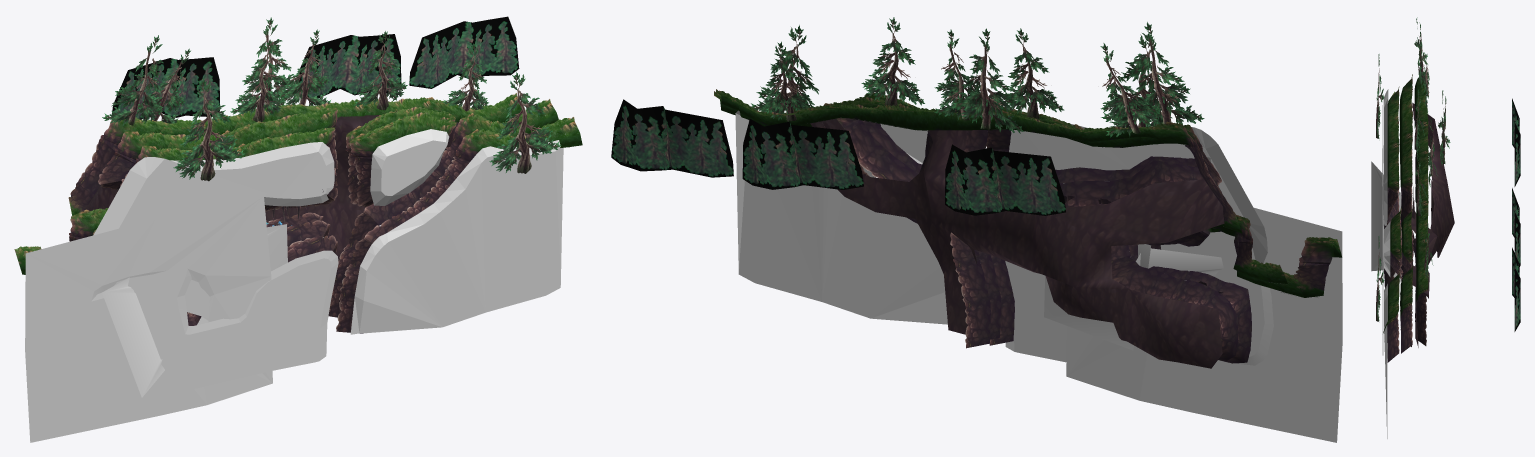
Rendered from Level 6 Deep Lake Pt 2.FBX.
3 renders of one model, left to right at view 1: azimuth 30°, elevation 25°; view 2: azimuth 150°, elevation 25°; view 3: azimuth 270°, elevation 25°, orthographic. The views are drawn at different scales.
Parts seen in each view (by area): view 1: Black Pt 2 Level 6, Black Cave Pt 2 Level 6, Black Cave2 Pt 1 Level 6, Pine Tree Group Pt 2_Level 6, Trees pt 2_Level 6, Black Pt 2 Hidden Cave Level 6, Ground Pt 2 _1 BG, Trees pt 2 FG_Level 6, Ground Pt 2 _3 FG, Ground Pt 2 _3, Ground Pt 2 _1, Dirt BG Pt 2 Level 6 (+7 smaller); view 2: Dirt BG Pt 2 Level 6, Black Pt 2 Level 6, Black Cave2 Pt 1 Level 6, Pine Tree Group Pt 2_Level 6, Trees pt 2_Level 6, Ground Pt 2 _1 BG, Ground Pt 2 _2 BG, Black Cave Pt 2 Level 6, Ground Pt 2 _4, Ground Pt 2 _3, Ground Pt 2 _4 FG, Black Pt 2 Hidden Cave Level 6 (+6 smaller); view 3: Dirt BG Pt 2 Level 6, Ground Pt 2 _1 BG, Trees pt 2_Level 6, Ground Pt 2 _3, Pine Tree Group Pt 2_Level 6, Ground Pt 2 FG, Cave 2 Entrance Mask, Black Pt 2 Level 6, Ground Pt 2 _3 FG, Ground Pt 2 _1, Ground Pt 2 _2 BG, Ground Pt 2 _2 FG (+5 smaller).
Boxes of the visible parts, bbox=[...] form: Black Pt 2 Level 6: bbox=[170, 129, 563, 334]; Black Cave Pt 2 Level 6: bbox=[45, 250, 338, 424]; Black Cave2 Pt 1 Level 6: bbox=[25, 196, 272, 442]; Pine Tree Group Pt 2_Level 6: bbox=[112, 16, 519, 119]; Trees pt 2_Level 6: bbox=[102, 17, 488, 126]; Black Pt 2 Hidden Cave Level 6: bbox=[93, 157, 266, 318]; Ground Pt 2 _1 BG: bbox=[68, 93, 521, 215]; Trees pt 2 FG_Level 6: bbox=[173, 72, 561, 181]; Ground Pt 2 _3 FG: bbox=[336, 117, 582, 333]; Ground Pt 2 _3: bbox=[98, 107, 337, 211]; Ground Pt 2 _1: bbox=[328, 99, 558, 317]; Dirt BG Pt 2 Level 6: bbox=[85, 115, 458, 260]; Dirt BG Pt 2 Level 6: bbox=[810, 110, 1224, 368]; Black Pt 2 Level 6: bbox=[735, 110, 1210, 324]; Black Cave2 Pt 1 Level 6: bbox=[1066, 208, 1342, 442]; Pine Tree Group Pt 2_Level 6: bbox=[611, 99, 1065, 215]; Trees pt 2_Level 6: bbox=[763, 17, 1204, 137]; Ground Pt 2 _1 BG: bbox=[731, 98, 1242, 233]; Ground Pt 2 _2 BG: bbox=[950, 232, 1238, 360]; Black Cave Pt 2 Level 6: bbox=[1005, 261, 1318, 362]; Ground Pt 2 _4: bbox=[978, 214, 1287, 363]; Ground Pt 2 _3: bbox=[955, 98, 1221, 207]; Ground Pt 2 _4 FG: bbox=[989, 228, 1342, 345]; Black Pt 2 Hidden Cave Level 6: bbox=[1160, 127, 1267, 279]; Dirt BG Pt 2 Level 6: bbox=[1411, 102, 1454, 347]; Ground Pt 2 _1 BG: bbox=[1414, 72, 1428, 301]; Trees pt 2_Level 6: bbox=[1414, 17, 1450, 278]; Ground Pt 2 _3: bbox=[1399, 74, 1412, 236]; Pine Tree Group Pt 2_Level 6: bbox=[1512, 98, 1520, 331]; Ground Pt 2 FG: bbox=[1383, 86, 1399, 227]; Cave 2 Entrance Mask: bbox=[1371, 161, 1401, 271]; Black Pt 2 Level 6: bbox=[1384, 99, 1390, 438]; Ground Pt 2 _3 FG: bbox=[1383, 271, 1399, 362]; Ground Pt 2 _1: bbox=[1400, 265, 1413, 353]; Ground Pt 2 _2 BG: bbox=[1413, 152, 1426, 345]; Ground Pt 2 _2 FG: bbox=[1390, 207, 1403, 279].
Size of what is drawn, in the model's own units: 5407 by 1480 by 3259.
